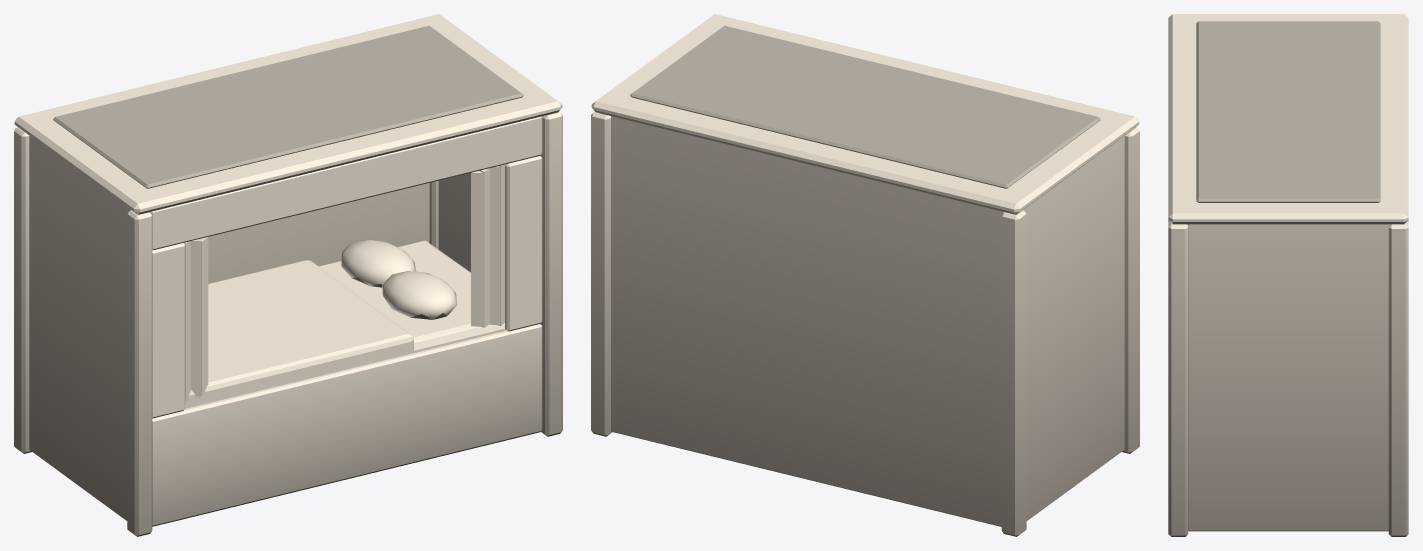
File: SM_VKI_Prop_Bed_Box.fbx
3 views of the same model, side by side, from view 1: azimuth 30°, elevation 25°; view 2: azimuth 150°, elevation 25°; view 3: azimuth 270°, elevation 25° (orthographic). The views are drawn at different scales.
Visible parts, largest first — view 1: SM_VKI_Prop_Bed_Box.001; view 2: SM_VKI_Prop_Bed_Box.001; view 3: SM_VKI_Prop_Bed_Box.001.
Part boxes in pixels (<box>): SM_VKI_Prop_Bed_Box.001: <box>14,14,562,536</box>; SM_VKI_Prop_Bed_Box.001: <box>591,14,1139,536</box>; SM_VKI_Prop_Bed_Box.001: <box>1168,14,1408,536</box>.
Size of the model in its own units: 2.4 by 1.8 by 1.2.
